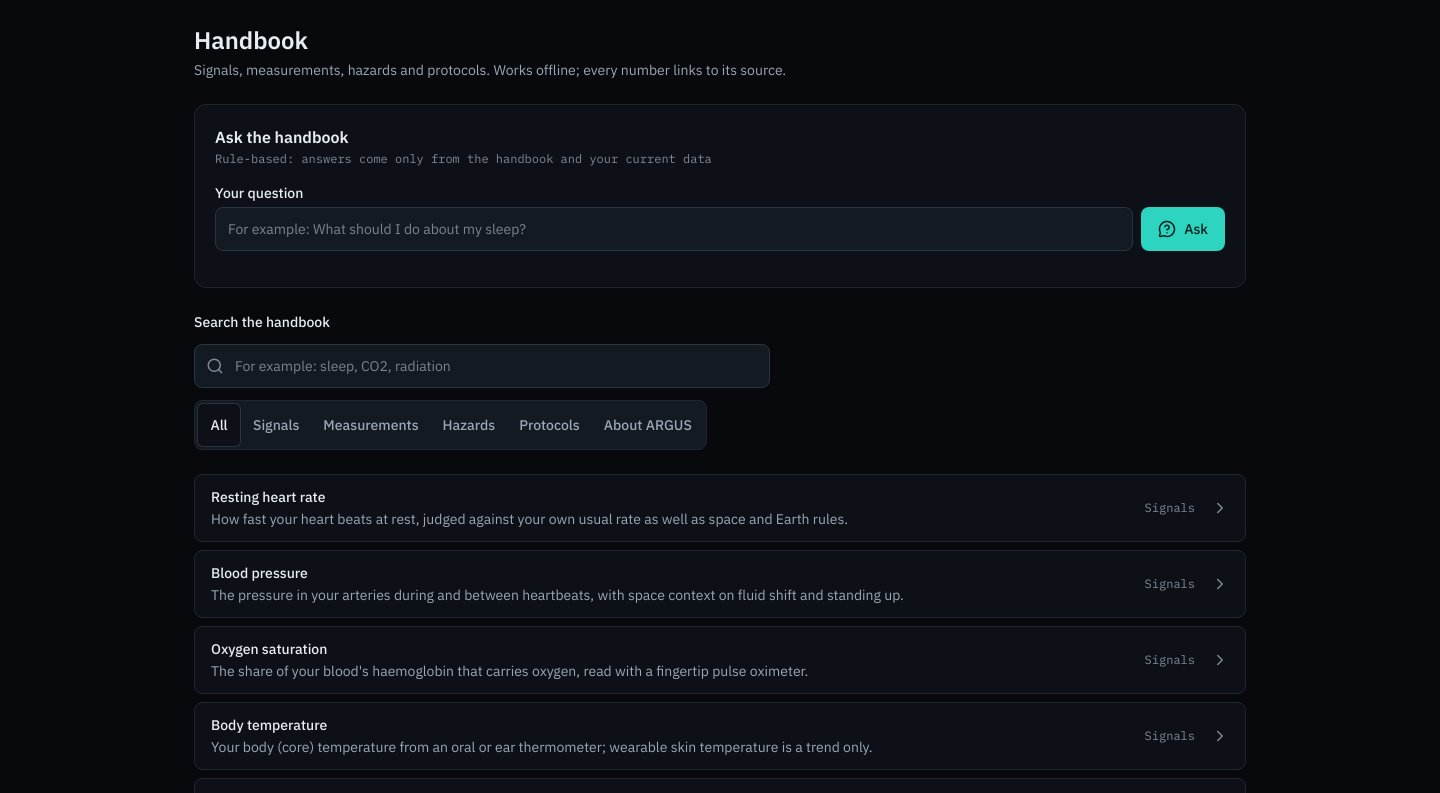
Ask box › a nonsense question → exactly "I don't have that."
Type "xyzzy blorp" into the field with test id "ask-input" at (674, 229), box [215, 207, 1133, 251]
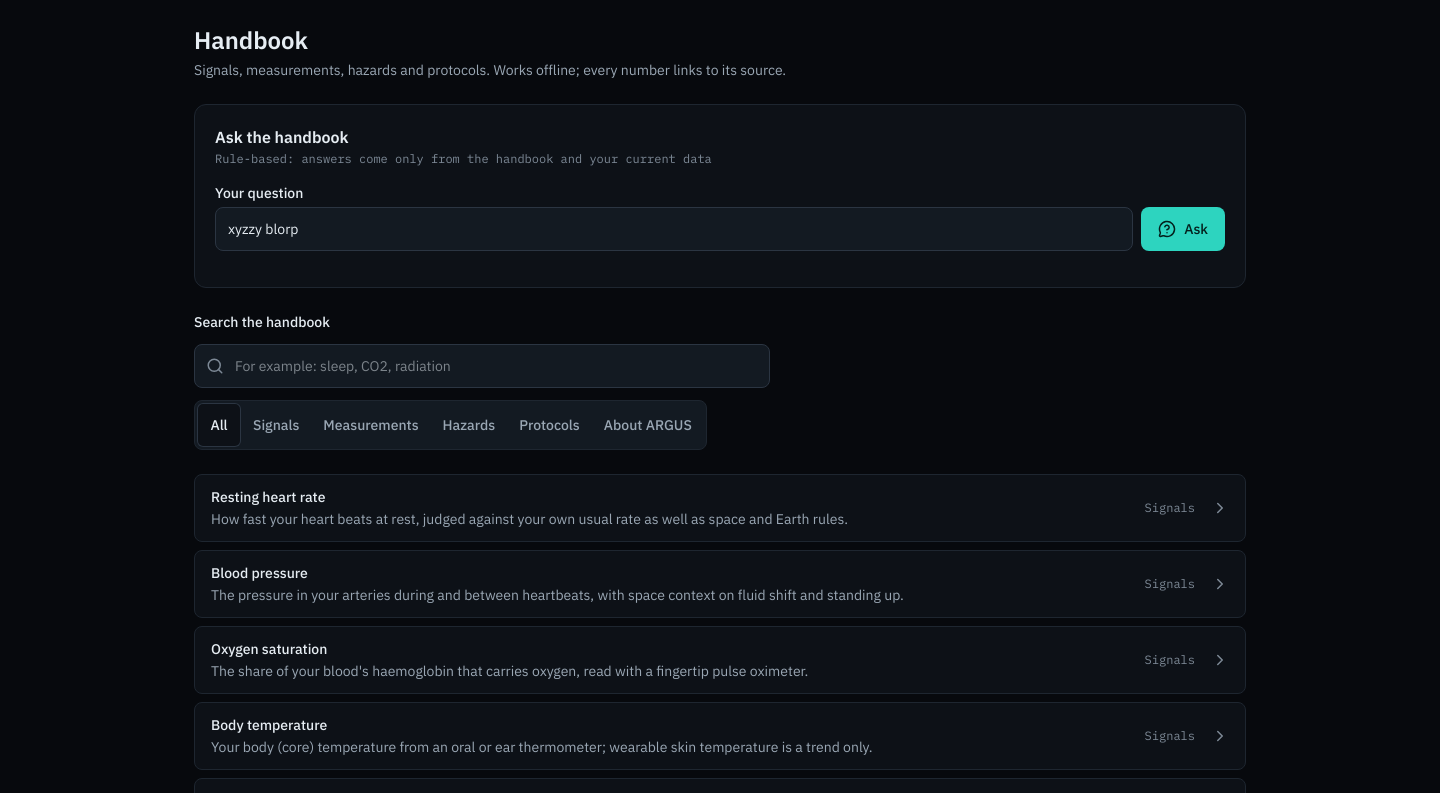
Click the button "Ask" at (1183, 229), box [1141, 207, 1225, 251]
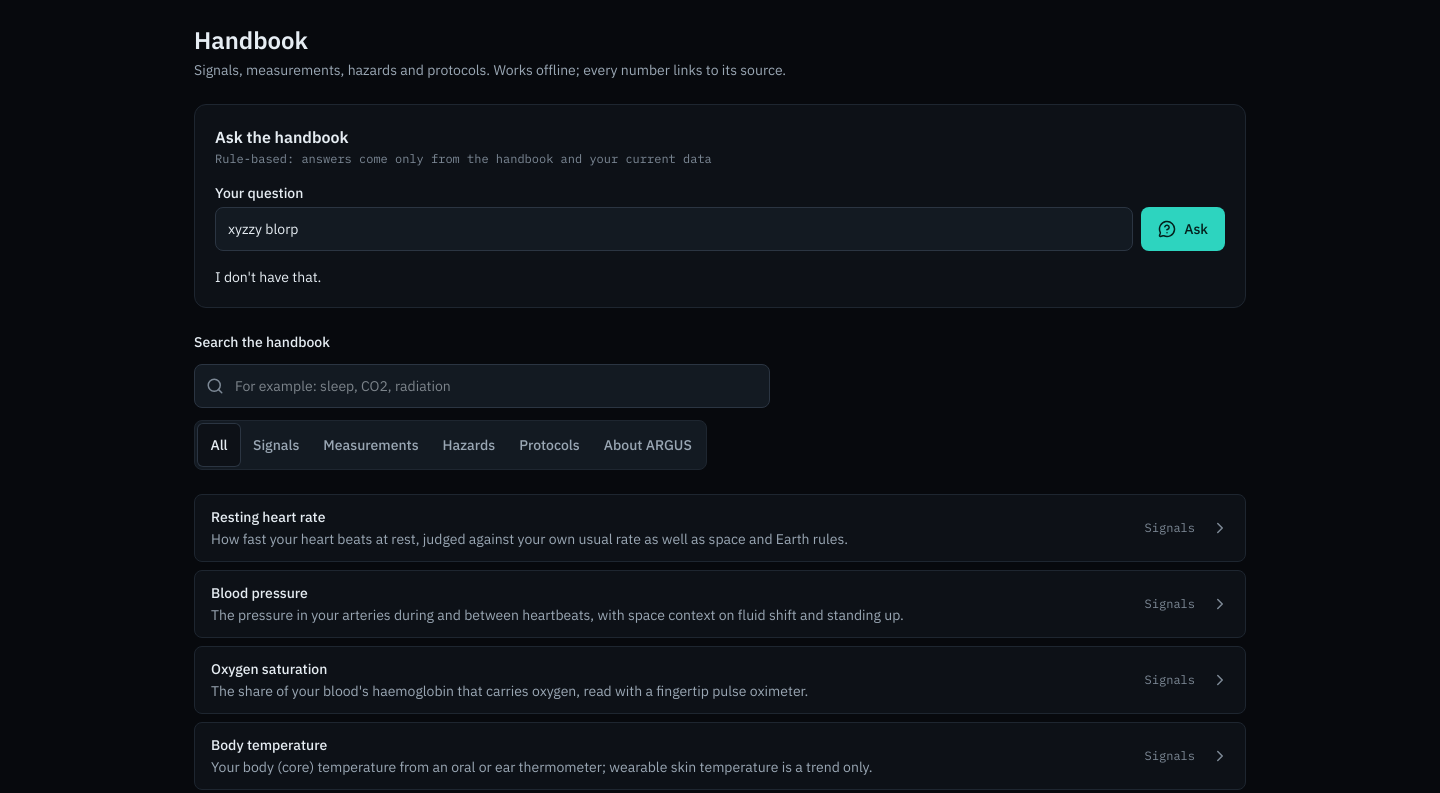
Now the text with test id "ask-no-answer" reads "I don't have that.", box [215, 268, 321, 286]
